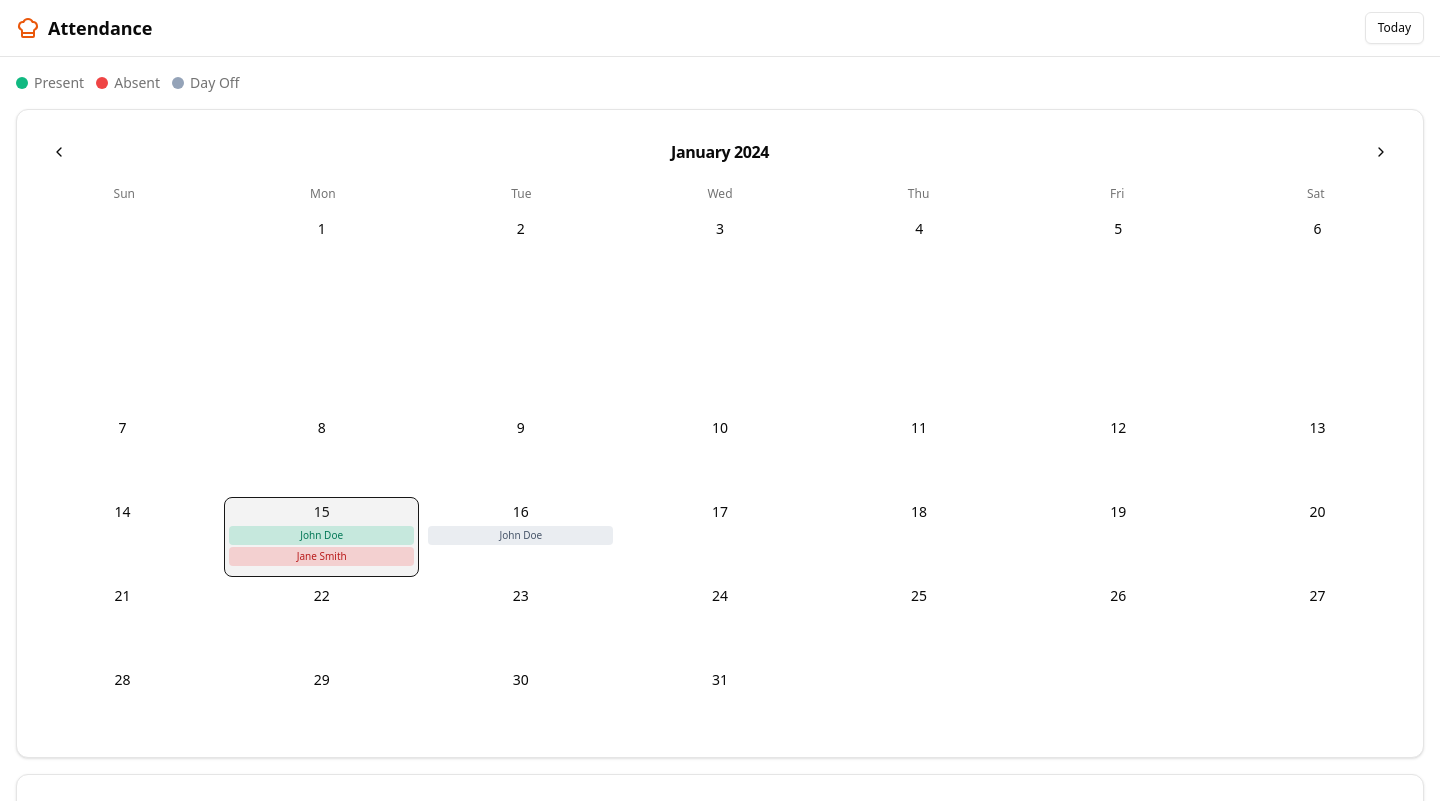
Test: AttendancePage › opens day dialog when clicking on a day
Expected: the text "January 2024" is shown, top-left (671, 140), bottom-right (769, 164)
Step 1. Click the button "15 John Doe Jane Smith" → [322, 537], box top-left (224, 497), bottom-right (419, 577)
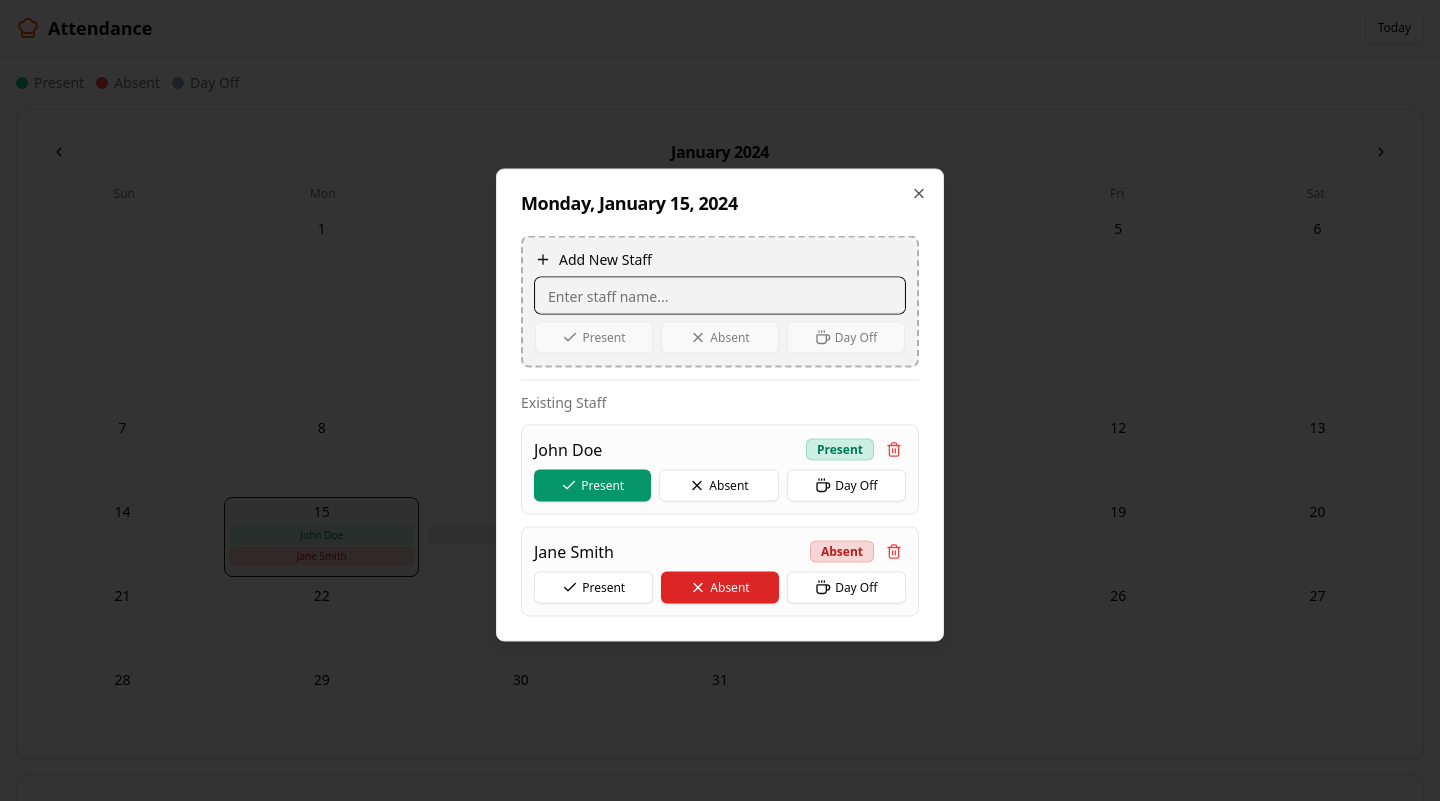
Result: the heading "Monday, January 15, 2024" is shown at top-left (521, 190), bottom-right (738, 214)
